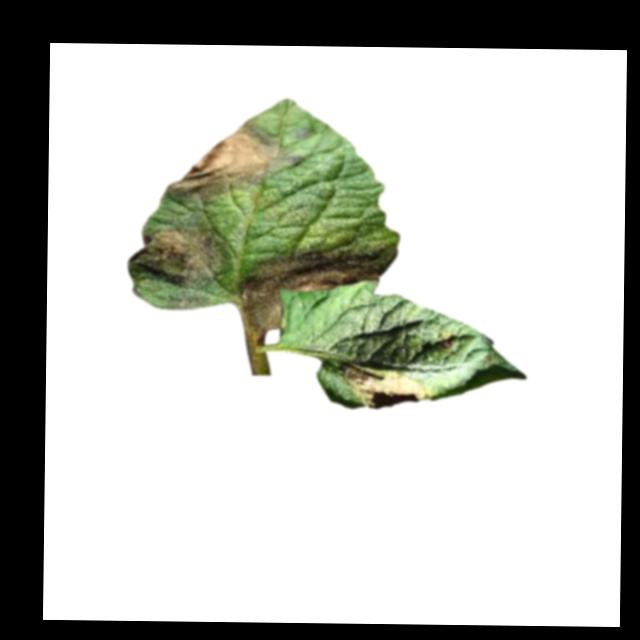Late_blight: (239, 240, 399, 335), (163, 117, 298, 203), (140, 222, 230, 291), (339, 358, 428, 410)
